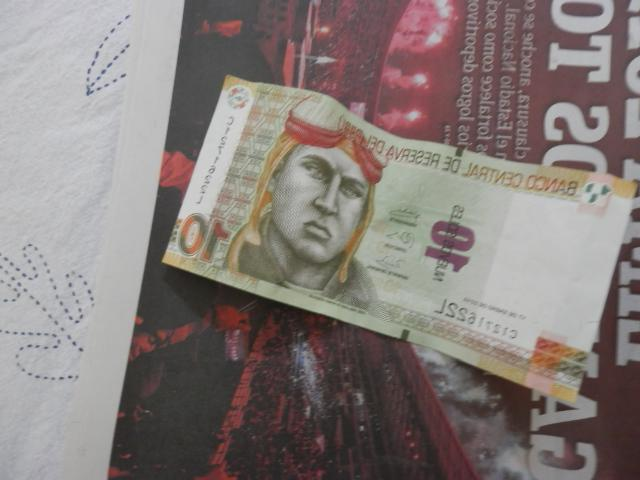B10: (165, 77, 638, 399)
